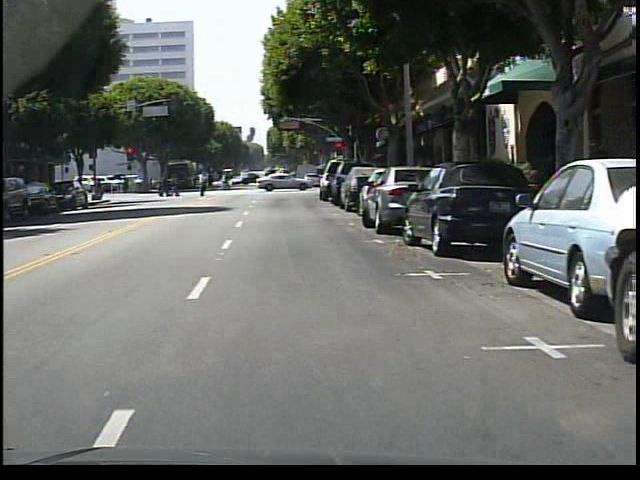person: (192, 169, 212, 198)
